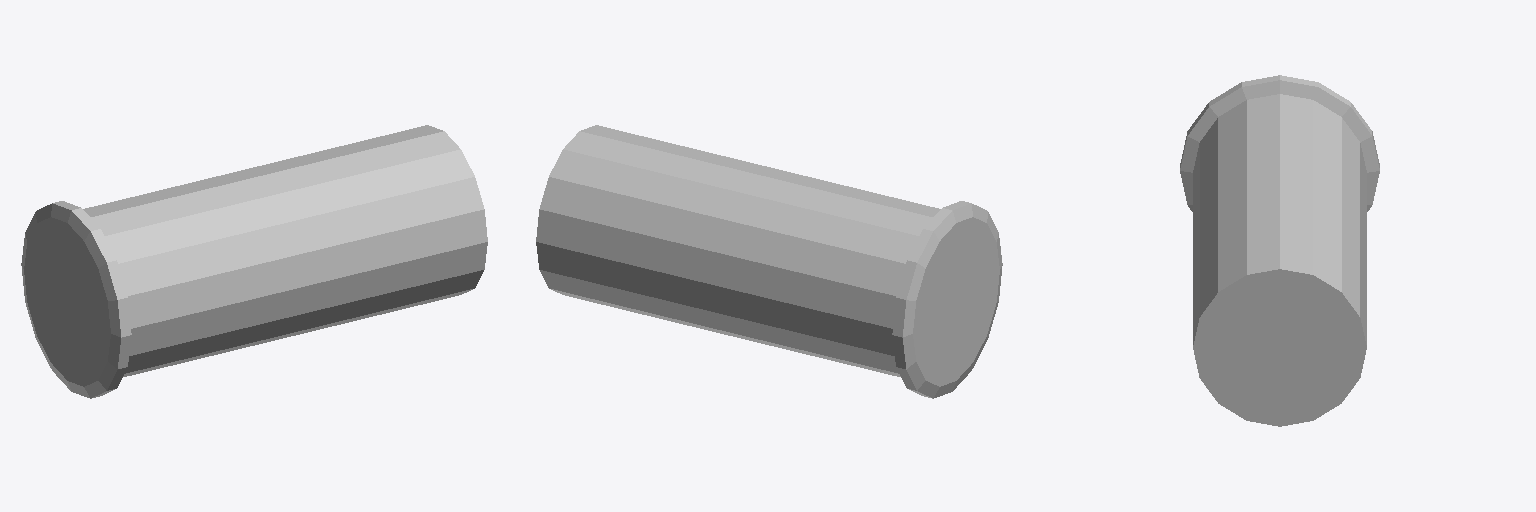
File: pipe_straight.obj
3 renders of one model, left to right at view 1: azimuth 30°, elevation 25°; view 2: azimuth 150°, elevation 25°; view 3: azimuth 270°, elevation 25°, orthographic.
Visible parts, largest first — view 1: Cylinder.014_Cylinder.018; view 2: Cylinder.014_Cylinder.018; view 3: Cylinder.014_Cylinder.018.
Boxes of the visible parts, box(x1,y1,x2,y2) form: Cylinder.014_Cylinder.018: box(21, 125, 487, 398); Cylinder.014_Cylinder.018: box(536, 125, 1002, 398); Cylinder.014_Cylinder.018: box(1180, 75, 1379, 426).
Bounding box in the file's own units: 1 × 0.4599 × 0.4599.